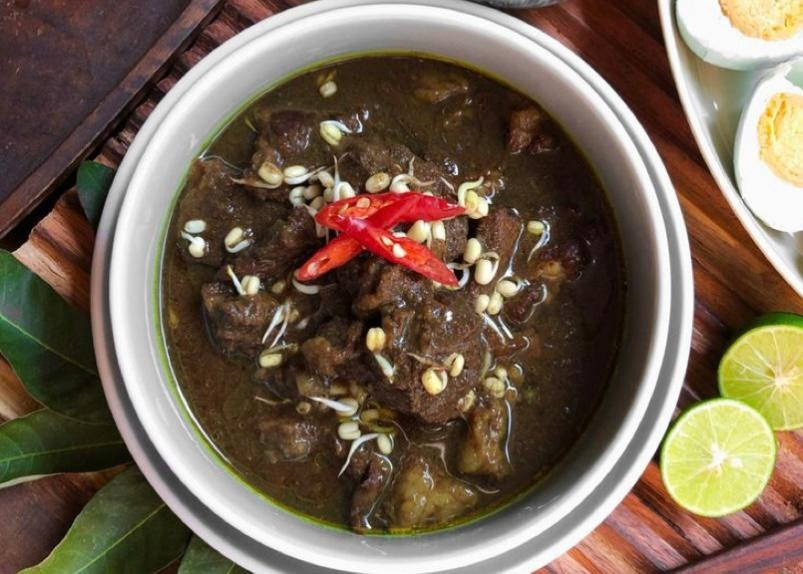rawon: (197, 93, 633, 523)
